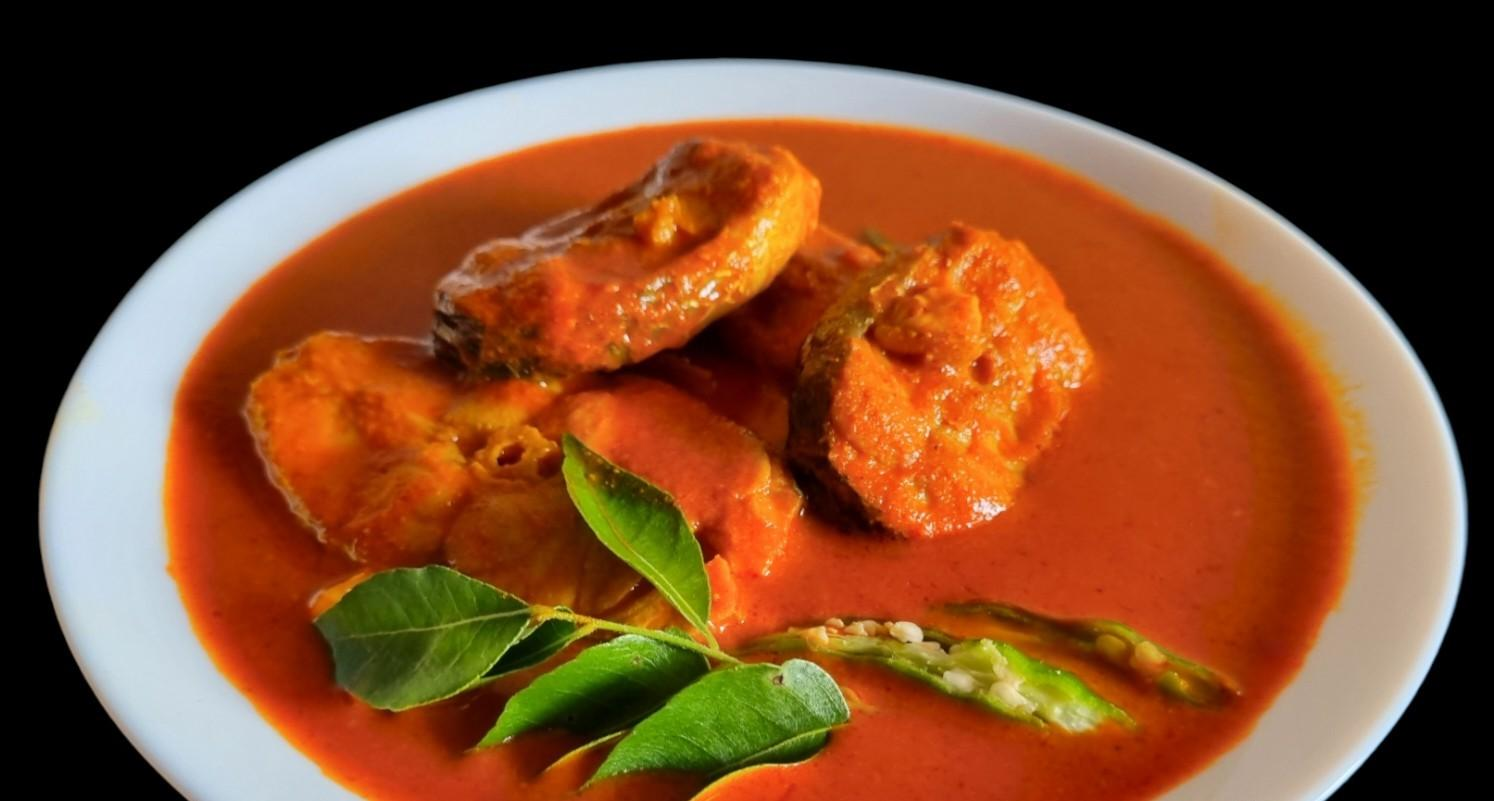FishCurry: (166, 122, 1351, 801)
